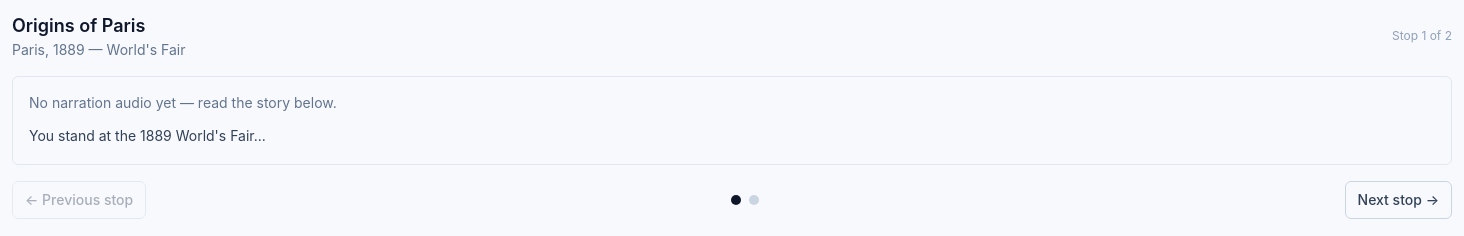
Test case: JourneyViewer › jumps directly to a stop via the dot indicators
Click the tab named "Stop 2" at point(754, 200), box top-left (749, 195), bottom-right (759, 205)
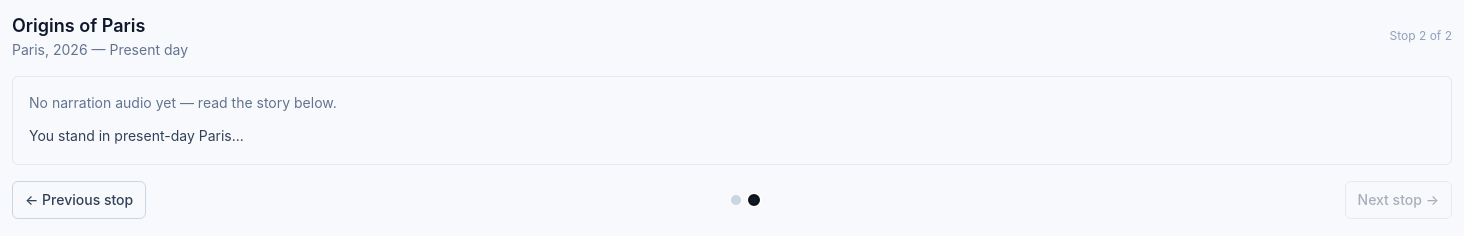
Now the text "Stop 2 of 2" is shown, box top-left (1390, 28), bottom-right (1452, 44)
